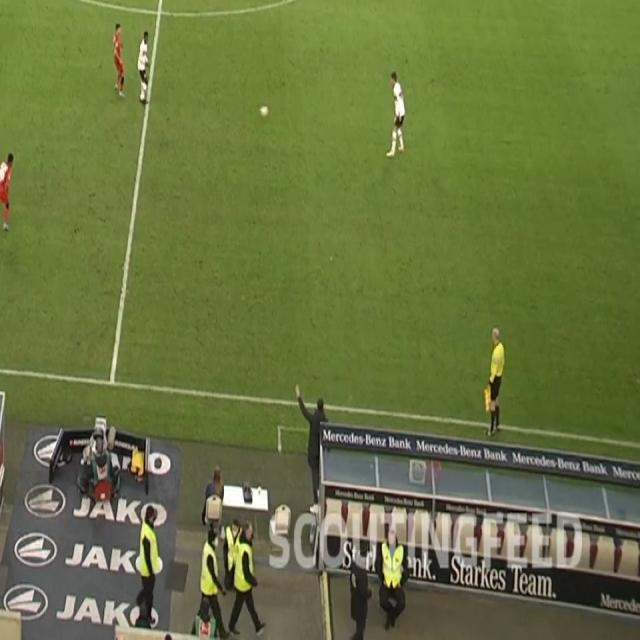ball: (258, 102, 270, 119)
